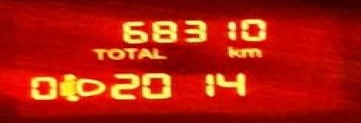0: (140, 71, 170, 100), (26, 73, 55, 101), (237, 16, 265, 41)
1: (199, 72, 214, 99), (223, 18, 234, 41)
2: (109, 71, 137, 102)
3: (182, 18, 207, 41)
4: (214, 71, 246, 97)
6: (120, 19, 146, 44)
8: (152, 19, 176, 43)
X: (89, 44, 105, 61), (240, 45, 261, 57), (105, 46, 122, 59), (150, 46, 166, 59), (225, 44, 239, 58), (122, 46, 137, 59), (138, 46, 151, 59)
